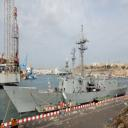Fragata: (4, 24, 128, 119)
